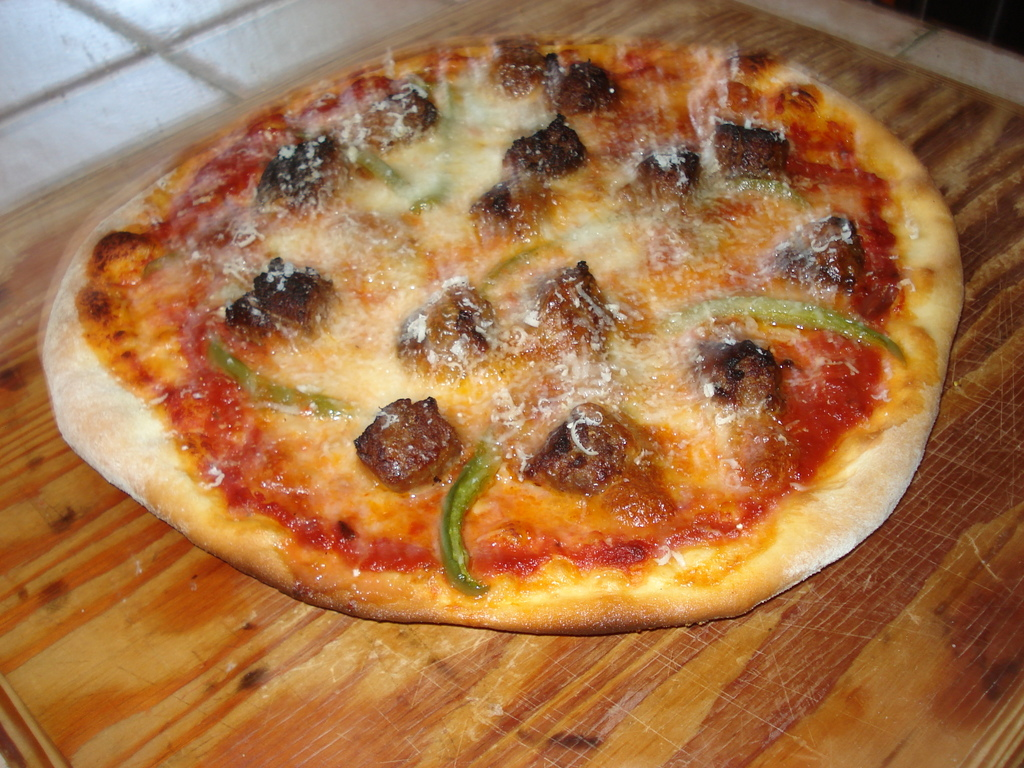Pizza: (51, 14, 994, 647)
